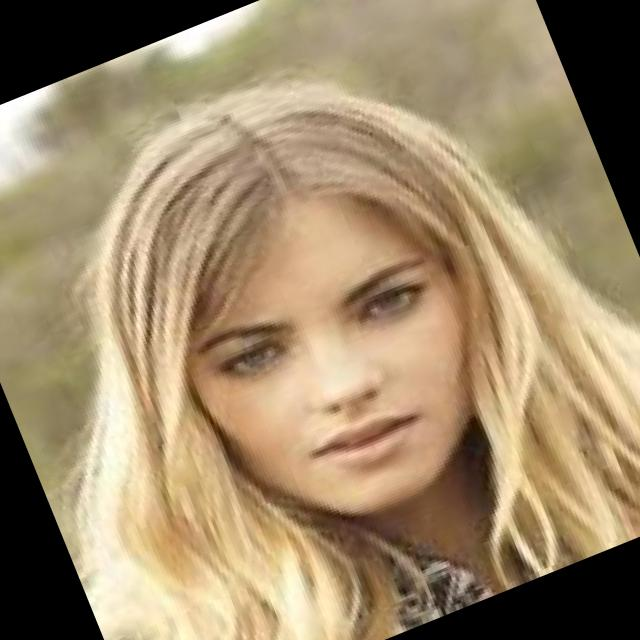bareface: (65, 49, 542, 581)
